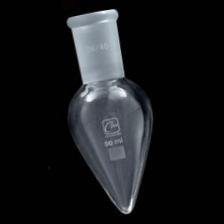Pear shaped flask: (62, 6, 154, 218)
